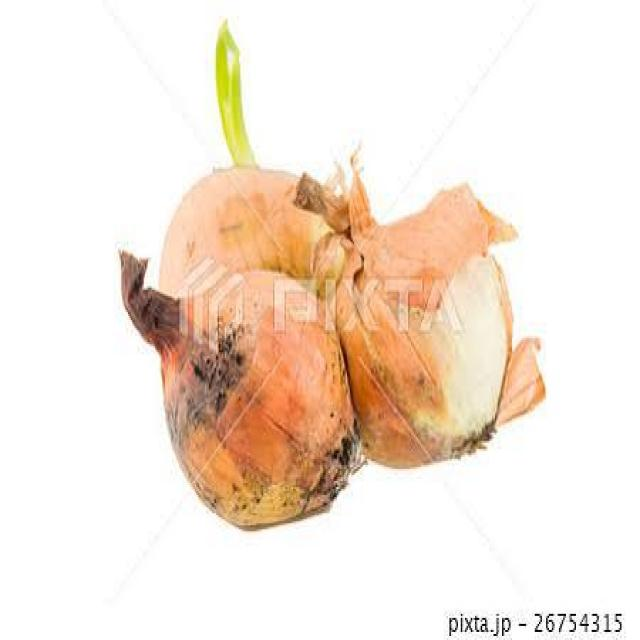rotten: (181, 324, 252, 415)
sprouting: (216, 18, 257, 167)
